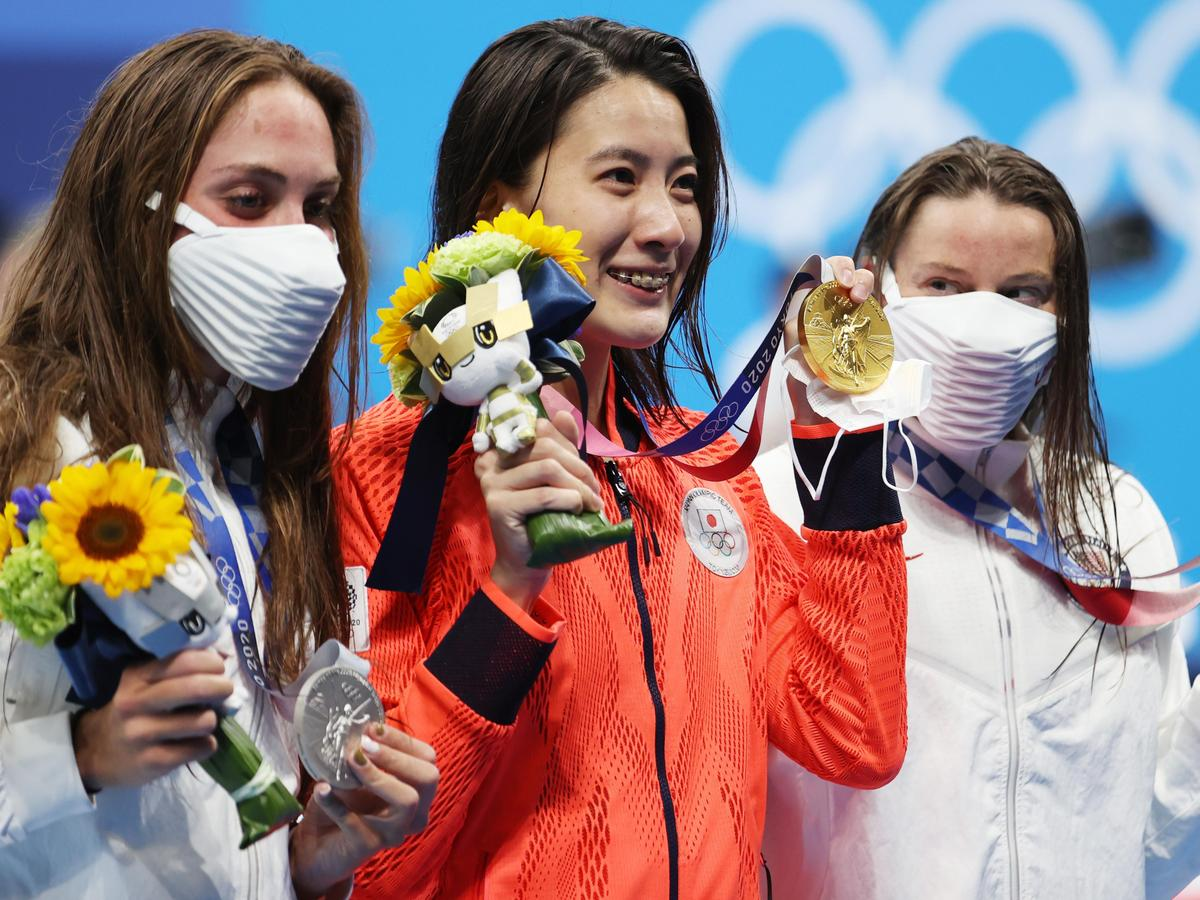with_mask: (176, 142, 339, 319)
without_mask: (580, 131, 693, 312), (924, 245, 1048, 373)
